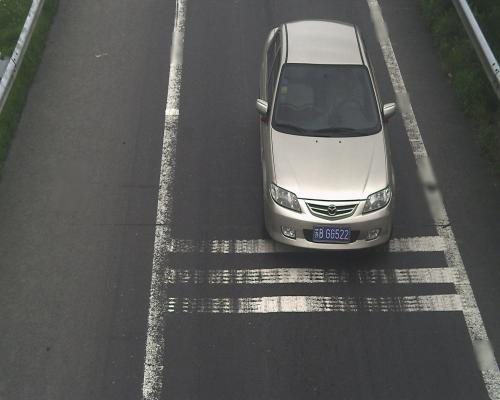Carplate: (310, 223, 356, 245)
